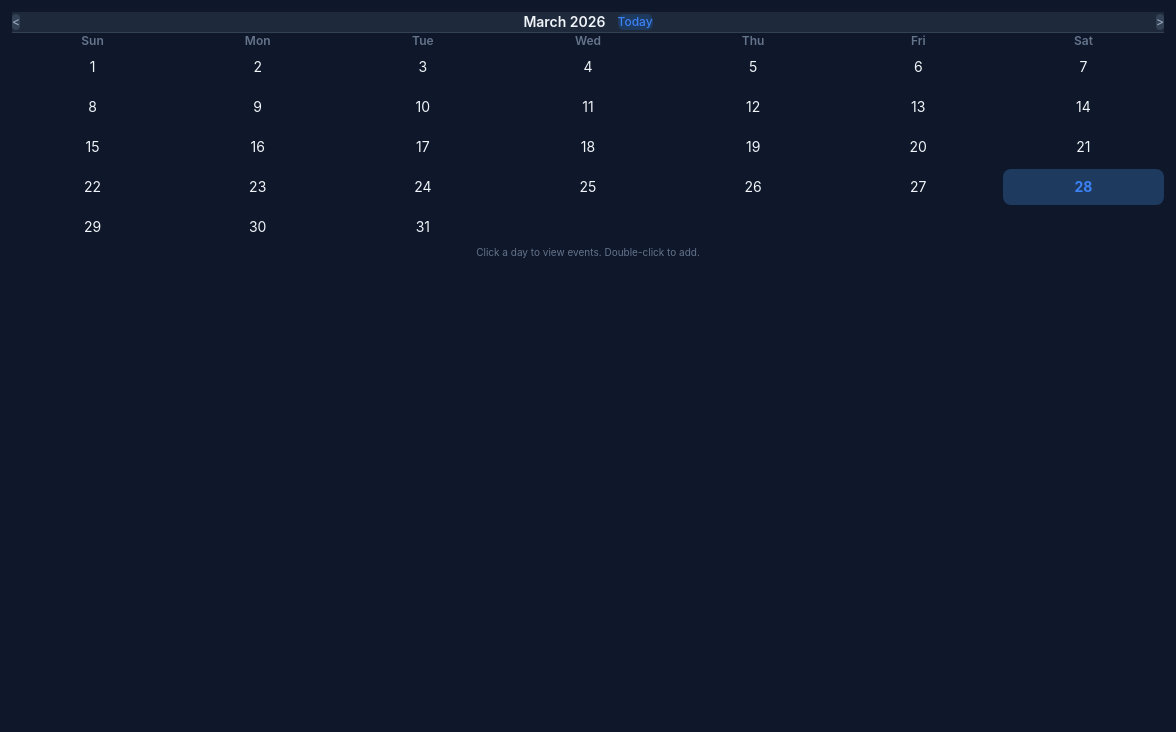
Calendar › shows no events message in sidebar
This screenshot has width=1176, height=732.
Click the text "10" at coordinates (423, 106), box [416,98,430,115]
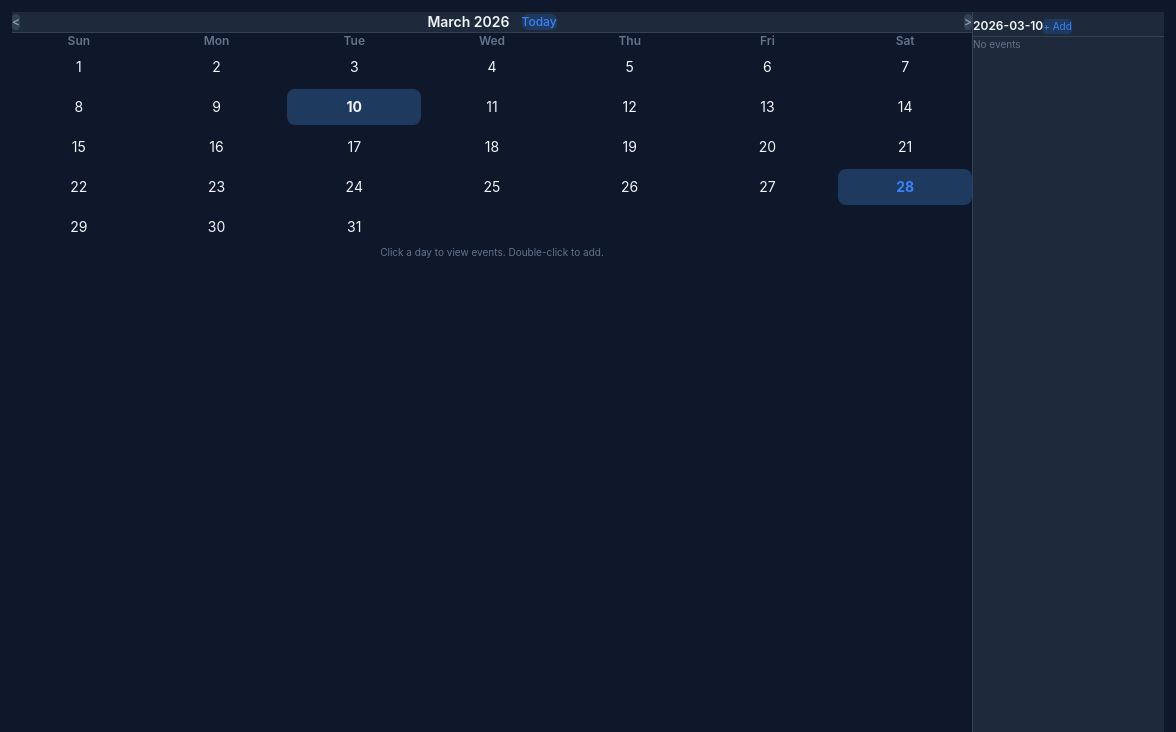
Expected: the text "No events" is shown, [973,38,1021,50]
